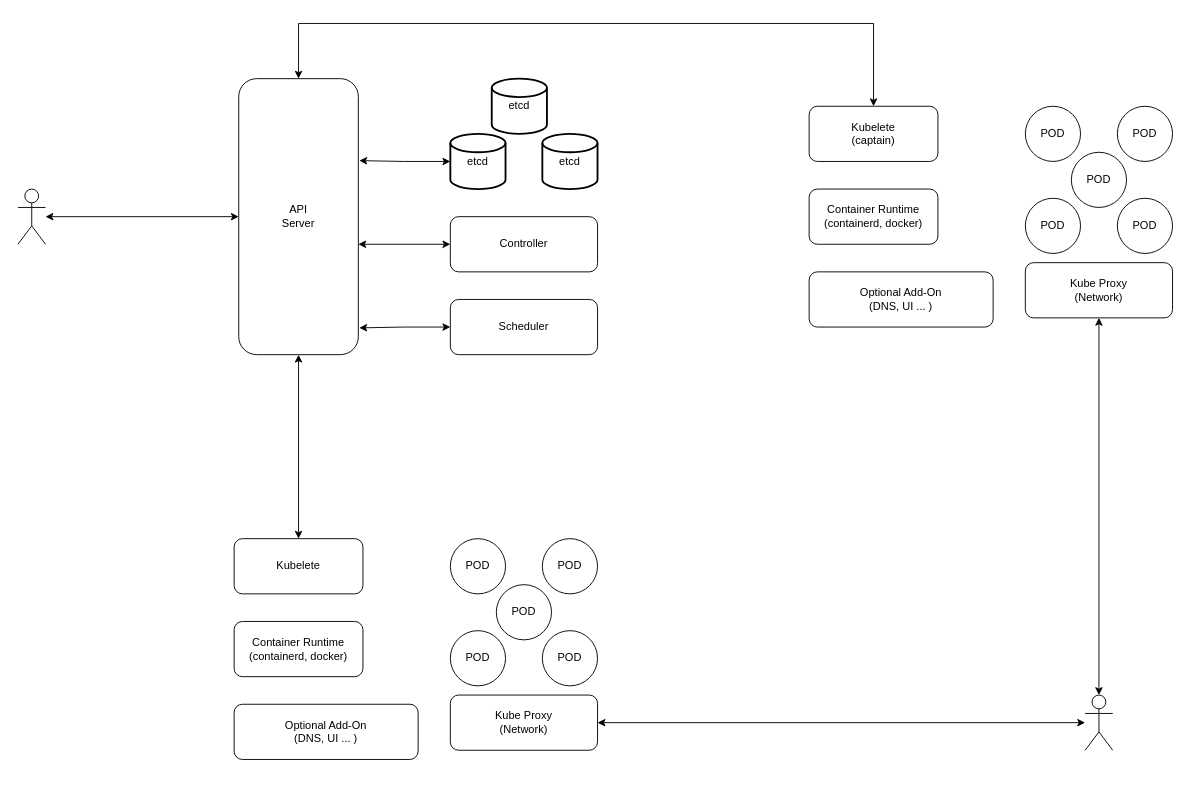
Some shapes in this 1189 by 786 pixel diagram are drawn without their labels. The shapes that lost their labels are listed below. From the top down, each one's box as (x1, y1, x2, y2) in pixels, then its label:
(17, 188, 46, 244): Admin
(1084, 694, 1113, 750): User
